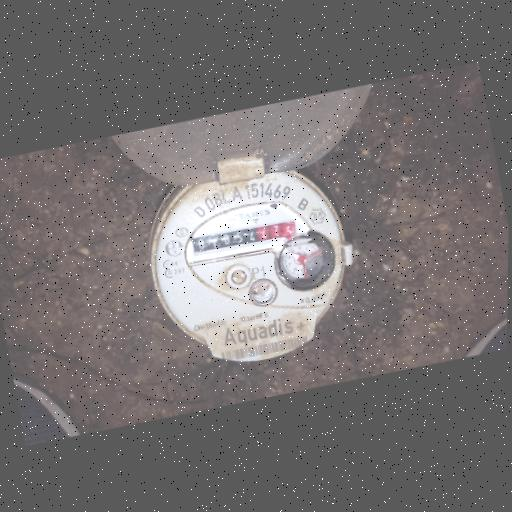0: (221, 231, 234, 248), (196, 236, 208, 252)
1: (209, 234, 222, 250)
4: (257, 225, 271, 242), (246, 227, 258, 243)
5: (285, 221, 297, 241), (233, 230, 245, 245)
7: (269, 222, 282, 239)
border_water_meter_number: (180, 208, 311, 270)
